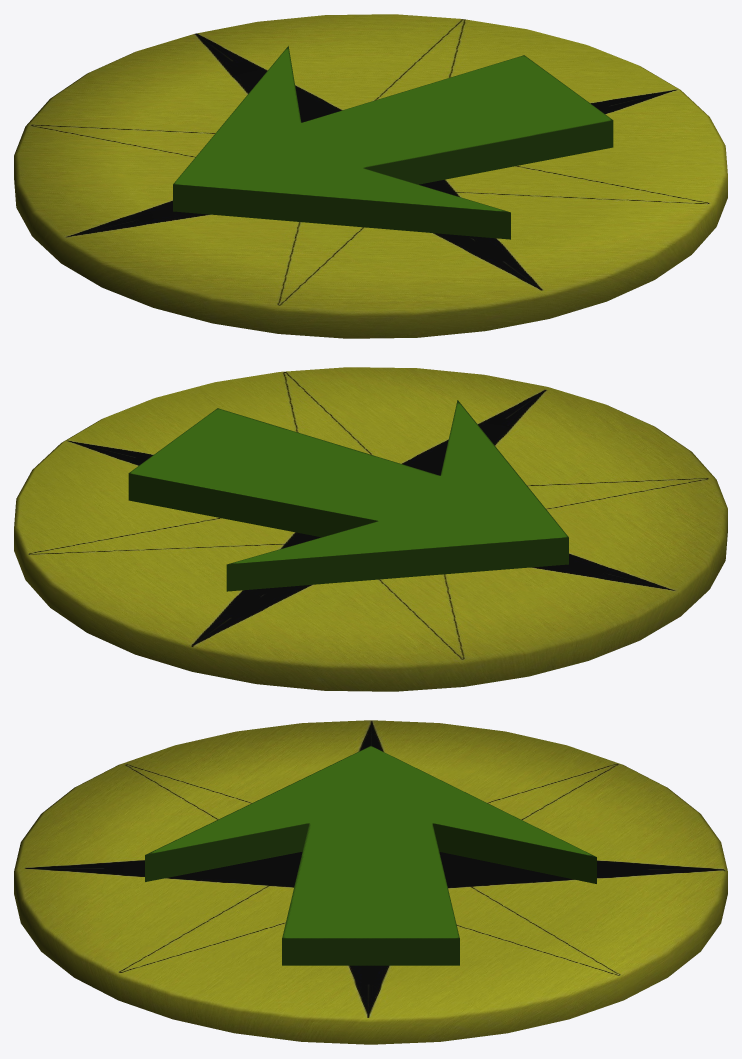
Rendered from ExportedBlenderFBXFile.fbx.
The picture shows the model from 3 angles, top to bottom: view 1: azimuth 30°, elevation 25°; view 2: azimuth 150°, elevation 25°; view 3: azimuth 270°, elevation 25°; orthographic projection.
Parts seen in each view (by area): view 1: compass, arrow; view 2: compass, arrow; view 3: compass, arrow.
Boxes of the visible parts, <box> form: compass: <box>14,14,727,338</box>; arrow: <box>173,46,613,239</box>; compass: <box>14,367,727,691</box>; arrow: <box>128,400,568,591</box>; compass: <box>14,720,727,1044</box>; arrow: <box>145,746,596,965</box>.
Size of the model in its own units: 2.52 by 0.2015 by 2.52.
